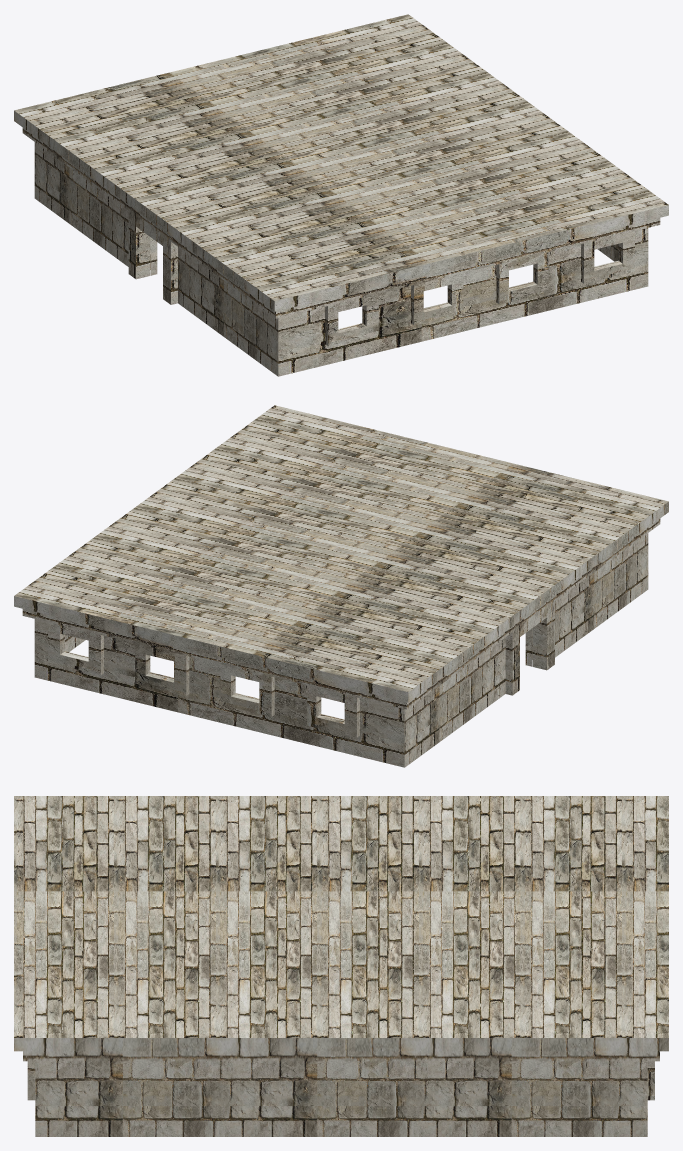
Rendered from Level2Room.FBX.
3 views of the same model, one above another, from view 1: azimuth 30°, elevation 25°; view 2: azimuth 150°, elevation 25°; view 3: azimuth 270°, elevation 25° (orthographic). The views are drawn at different scales.
Visible parts, largest first — view 1: Level 2 Room; view 2: Level 2 Room; view 3: Level 2 Room.
Boxes of the visible parts, x1=… form: Level 2 Room: x1=14, y1=14, x2=668, y2=376; Level 2 Room: x1=14, y1=405, x2=668, y2=767; Level 2 Room: x1=14, y1=796, x2=668, y2=1136.
Size of the model in its own units: 237 by 48.59 by 271.
1 material, 1 textured.
